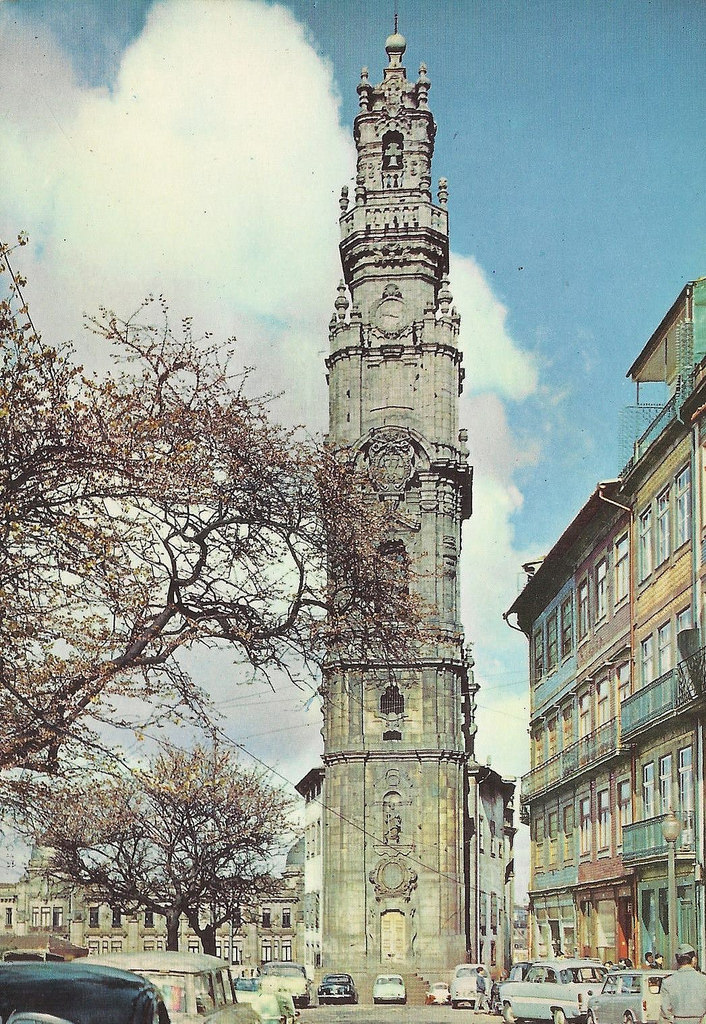clerigos: (316, 0, 479, 1006)
